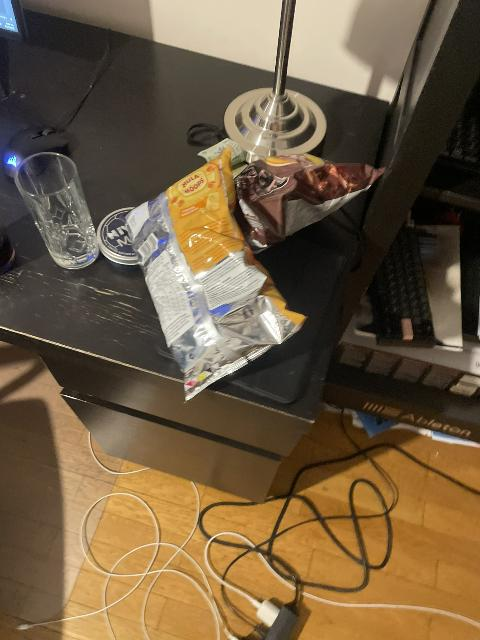Chio Hula Hoops Cheese 70g: (126, 154, 303, 387)
Lays Beef Grilled Ribs 125g: (233, 153, 378, 253)
